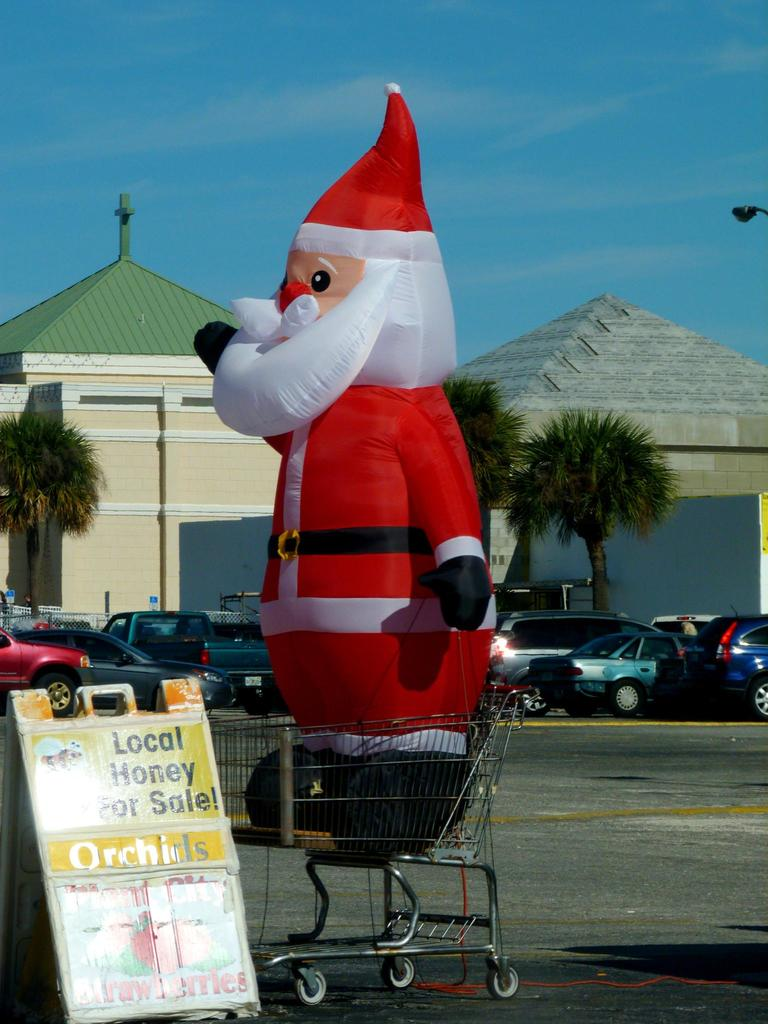Car: (0, 606, 767, 727)
